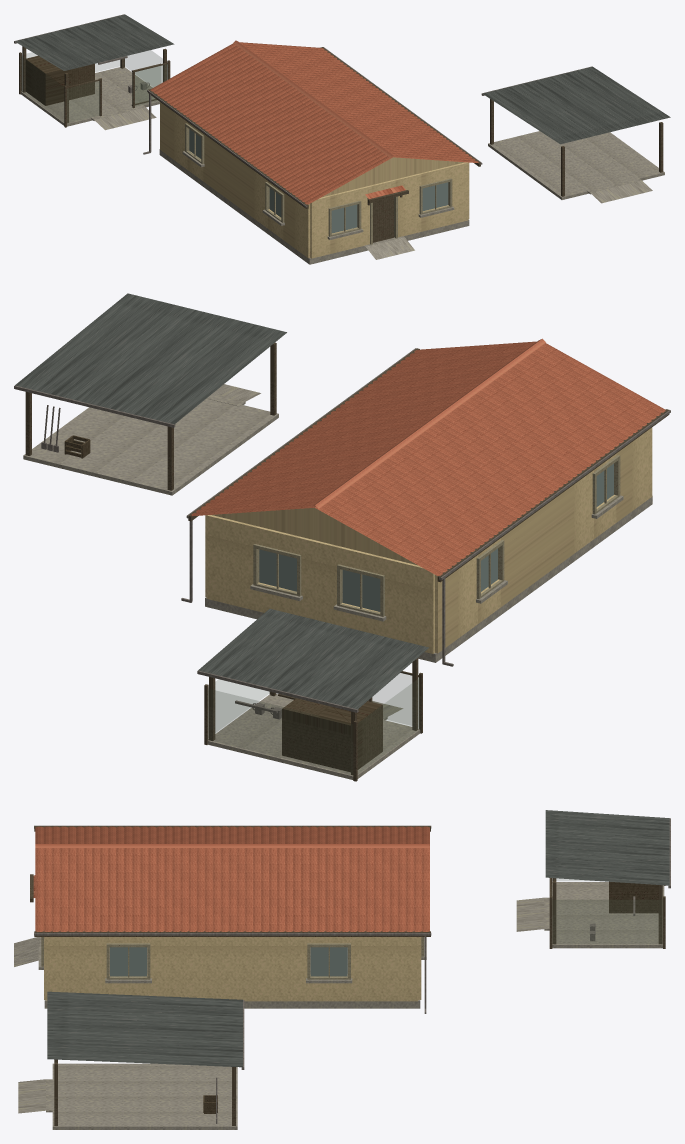
The picture shows the model from 3 angles, top to bottom: view 1: azimuth 30°, elevation 25°; view 2: azimuth 150°, elevation 25°; view 3: azimuth 270°, elevation 25°; orthographic projection. The views are drawn at different scales.
Visible parts, largest first — view 1: H26_TELHAS, H26_GARAGEM_CHAPAS_UMA_AGUA, H26_GARAGEM_BASE, H26_LATERAIS, H26_FACHADA, H26_GALINHEIRO_CHAPAS_UMA_AGUA, H26_GALINHEIRO_BASE, H26_GALINHEIRO_ABRIGO, H26_GALINHEIRO_TELA, H26_GALINHEIRO_TELA_FRENTE, H26_VIDROS_RECUADOS, H26_OITOES (+13 smaller); view 2: H26_TELHAS, H26_GARAGEM_CHAPAS_UMA_AGUA, H26_FUNDOS, H26_GALINHEIRO_CHAPAS_UMA_AGUA, H26_LATERAIS, H26_GARAGEM_BASE, H26_GALINHEIRO_TELA_FUNDO, H26_GALINHEIRO_ABRIGO, H26_GALINHEIRO_TELA, H26_GALINHEIRO_BASE, H26_OITOES, H26_VIDROS_RECUADOS (+11 smaller); view 3: H26_TELHAS, H26_LATERAIS, H26_GARAGEM_CHAPAS_UMA_AGUA, H26_GARAGEM_BASE, H26_GALINHEIRO_CHAPAS_UMA_AGUA, H26_GALINHEIRO_BASE, H26_GALINHEIRO_TELA, H26_VIDROS_RECUADOS, H26_BEIRAIS, H26_CALHA, H26_CUMEEIRA, H26_FUNDACAO (+8 smaller).
Boxes of the visible parts, x1=… form: H26_TELHAS: x1=150, y1=42, x2=478, y2=204; H26_GARAGEM_CHAPAS_UMA_AGUA: x1=482, y1=66, x2=670, y2=144; H26_GARAGEM_BASE: x1=488, y1=131, x2=664, y2=199; H26_LATERAIS: x1=160, y1=102, x2=469, y2=258; H26_FACHADA: x1=310, y1=162, x2=468, y2=258; H26_GALINHEIRO_CHAPAS_UMA_AGUA: x1=15, y1=14, x2=174, y2=70; H26_GALINHEIRO_BASE: x1=21, y1=67, x2=159, y2=126; H26_GALINHEIRO_ABRIGO: x1=25, y1=56, x2=94, y2=105; H26_GALINHEIRO_TELA: x1=21, y1=50, x2=162, y2=121; H26_GALINHEIRO_TELA_FRENTE: x1=67, y1=64, x2=167, y2=122; H26_VIDROS_RECUADOS: x1=189, y1=129, x2=448, y2=233; H26_OITOES: x1=322, y1=157, x2=464, y2=197; H26_TELHAS: x1=191, y1=341, x2=665, y2=575; H26_GARAGEM_CHAPAS_UMA_AGUA: x1=15, y1=293, x2=286, y2=424; H26_FUNDOS: x1=206, y1=515, x2=434, y2=653; H26_GALINHEIRO_CHAPAS_UMA_AGUA: x1=198, y1=608, x2=428, y2=709; H26_LATERAIS: x1=205, y1=427, x2=652, y2=653; H26_GARAGEM_BASE: x1=23, y1=398, x2=278, y2=495; H26_GALINHEIRO_TELA_FUNDO: x1=208, y1=689, x2=352, y2=774; H26_GALINHEIRO_ABRIGO: x1=282, y1=698, x2=382, y2=772; H26_GALINHEIRO_TELA: x1=215, y1=678, x2=419, y2=773; H26_GALINHEIRO_BASE: x1=207, y1=694, x2=420, y2=779; H26_OITOES: x1=212, y1=507, x2=417, y2=565; H26_VIDROS_RECUADOS: x1=259, y1=463, x2=613, y2=611; H26_TELHAS: x1=35, y1=826, x2=429, y2=931; H26_LATERAIS: x1=46, y1=937, x2=418, y2=1001; H26_GARAGEM_CHAPAS_UMA_AGUA: x1=47, y1=991, x2=242, y2=1067; H26_GARAGEM_BASE: x1=52, y1=1063, x2=237, y2=1129; H26_GALINHEIRO_CHAPAS_UMA_AGUA: x1=545, y1=810, x2=669, y2=885; H26_GALINHEIRO_BASE: x1=552, y1=882, x2=664, y2=948; H26_GALINHEIRO_TELA: x1=552, y1=878, x2=662, y2=943; H26_VIDROS_RECUADOS: x1=110, y1=947, x2=347, y2=976; H26_BEIRAIS: x1=34, y1=826, x2=430, y2=936; H26_CALHA: x1=34, y1=825, x2=431, y2=935; H26_CUMEEIRA: x1=35, y1=844, x2=429, y2=847; H26_FUNDACAO: x1=44, y1=947, x2=420, y2=1008.
Bounding box in the file's own units: 19.76 × 4.28 × 22.02.
12 materials, 9 textured.
